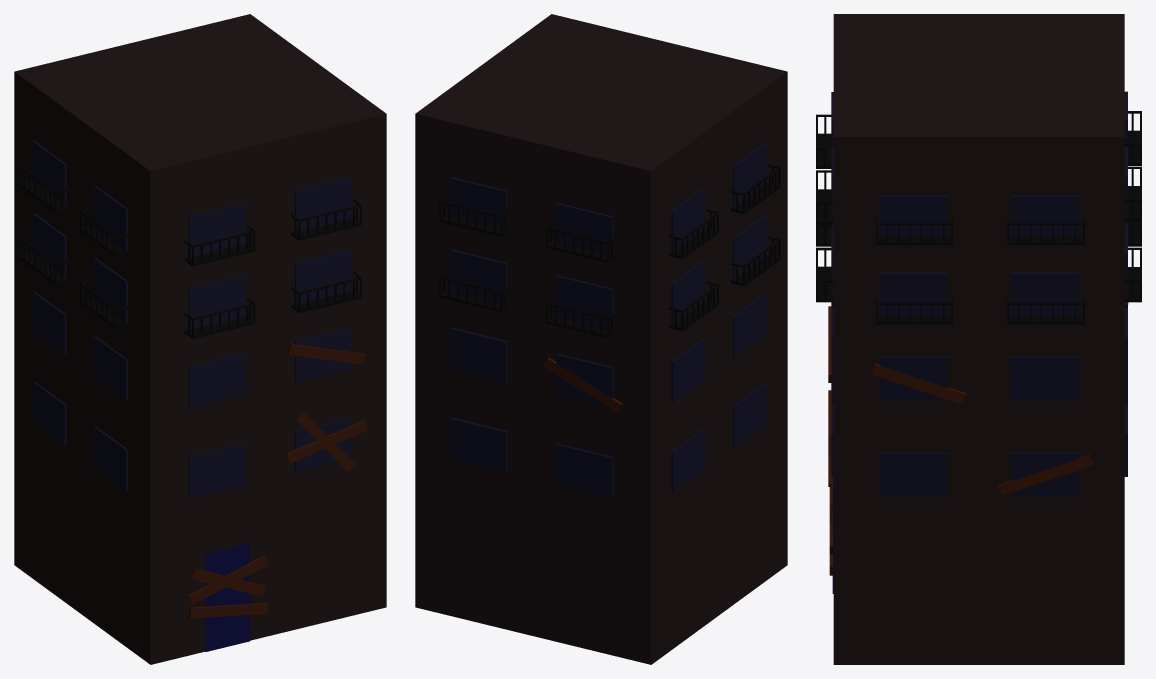
Rendered from Building1_notext.FBX.
3 views of the same model, side by side, from view 1: azimuth 30°, elevation 25°; view 2: azimuth 150°, elevation 25°; view 3: azimuth 270°, elevation 25° (orthographic). The views are drawn at different scales.
Parts seen in each view (by area): view 1: Box001, Box002, Box007, Box009, Box003, Box005, Box006, Box004, Box008, Box015, Box017, Box018 (+16 smaller); view 2: Box001, Box023, Box025, Box026, Box021, Box022, Box019, Box020, Box024, Box017, Box016, Box015 (+10 smaller); view 3: Box001, Box033, Box032, Box029, Box030, Box027, Box028, Box031, Box034, Box257, Box256, Box402 (+4 smaller).
Part boxes in pixels (left/top/right/bottom): Box001: left=14, top=14, right=386, bottom=664; Box002: left=205, top=543, right=250, bottom=651; Box007: left=188, top=353, right=245, bottom=408; Box009: left=188, top=443, right=245, bottom=498; Box003: left=188, top=203, right=245, bottom=257; Box005: left=188, top=275, right=245, bottom=329; Box006: left=295, top=249, right=351, bottom=303; Box004: left=295, top=177, right=351, bottom=231; Box008: left=295, top=327, right=351, bottom=382; Box015: left=32, top=291, right=66, bottom=355; Box017: left=32, top=381, right=66, bottom=445; Box018: left=93, top=426, right=127, bottom=490; Box001: left=415, top=14, right=787, bottom=664; Box023: left=450, top=327, right=507, bottom=382; Box025: left=450, top=417, right=507, bottom=472; Box026: left=556, top=443, right=613, bottom=498; Box021: left=450, top=249, right=507, bottom=304; Box022: left=556, top=275, right=613, bottom=330; Box019: left=450, top=177, right=507, bottom=228; Box020: left=556, top=203, right=613, bottom=254; Box024: left=556, top=353, right=613, bottom=408; Box017: left=671, top=428, right=705, bottom=492; Box016: left=732, top=293, right=766, bottom=357; Box015: left=671, top=338, right=705, bottom=402; Box001: left=833, top=14, right=1124, bottom=664; Box033: left=879, top=452, right=948, bottom=497; Box032: left=1011, top=356, right=1079, bottom=401; Box029: left=879, top=272, right=948, bottom=316; Box030: left=1011, top=272, right=1079, bottom=316; Box027: left=879, top=195, right=948, bottom=236; Box028: left=1011, top=195, right=1079, bottom=236; Box031: left=879, top=356, right=948, bottom=401; Box034: left=1011, top=452, right=1079, bottom=497; Box257: left=871, top=363, right=966, bottom=404; Box256: left=998, top=454, right=1093, bottom=495; Box402: left=875, top=235, right=952, bottom=244.
Bounding box in the file's own units: 55.78 × 100 × 55.96.
